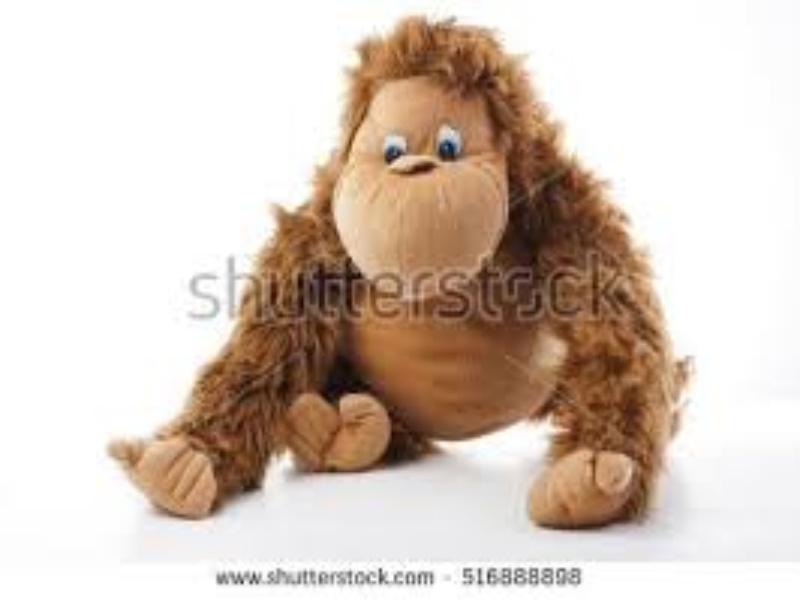monkey: (111, 23, 753, 541)
